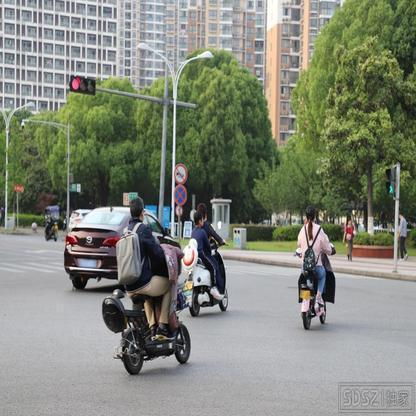target: (101, 196, 190, 375), (182, 203, 230, 317), (296, 206, 337, 332)
